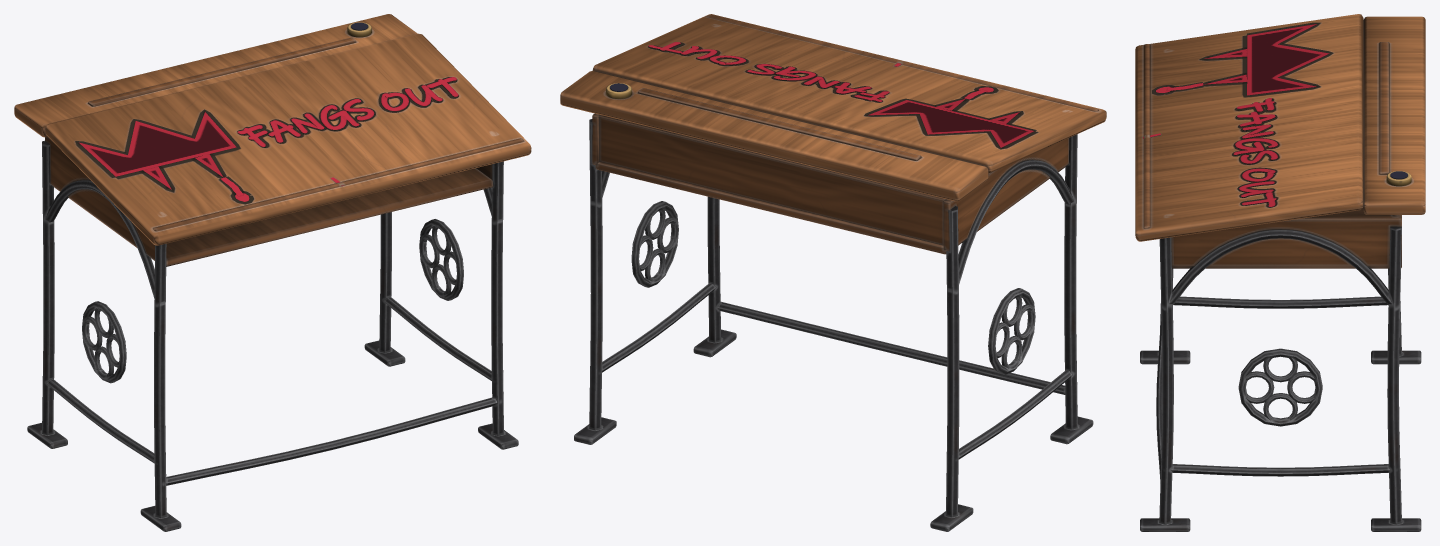
The model's file is StudentDeskPrankCourt.fbx.
3 views of the same model, side by side, from view 1: azimuth 30°, elevation 25°; view 2: azimuth 150°, elevation 25°; view 3: azimuth 270°, elevation 25° (orthographic). The views are drawn at different scales.
Parts seen in each view (by area): view 1: StudentDeskPrankCourt; view 2: StudentDeskPrankCourt; view 3: StudentDeskPrankCourt.
Part boxes in pixels (bbox=[...]): StudentDeskPrankCourt: bbox=[14, 14, 531, 531]; StudentDeskPrankCourt: bbox=[560, 14, 1106, 531]; StudentDeskPrankCourt: bbox=[1135, 14, 1425, 531].
Bounding box in the file's own units: 300 × 255 × 196.
